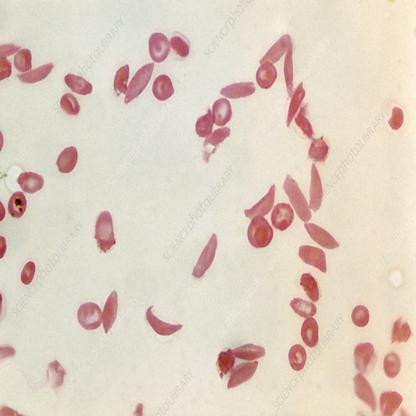redbloodcell: (42, 138, 91, 182), (16, 260, 56, 293), (344, 296, 377, 333), (142, 27, 173, 65), (13, 167, 47, 196), (9, 43, 37, 75)
sicklecell: (178, 211, 221, 285), (280, 171, 318, 229), (135, 302, 182, 342), (300, 163, 335, 216), (284, 82, 308, 130), (283, 33, 297, 101), (102, 284, 119, 337)
